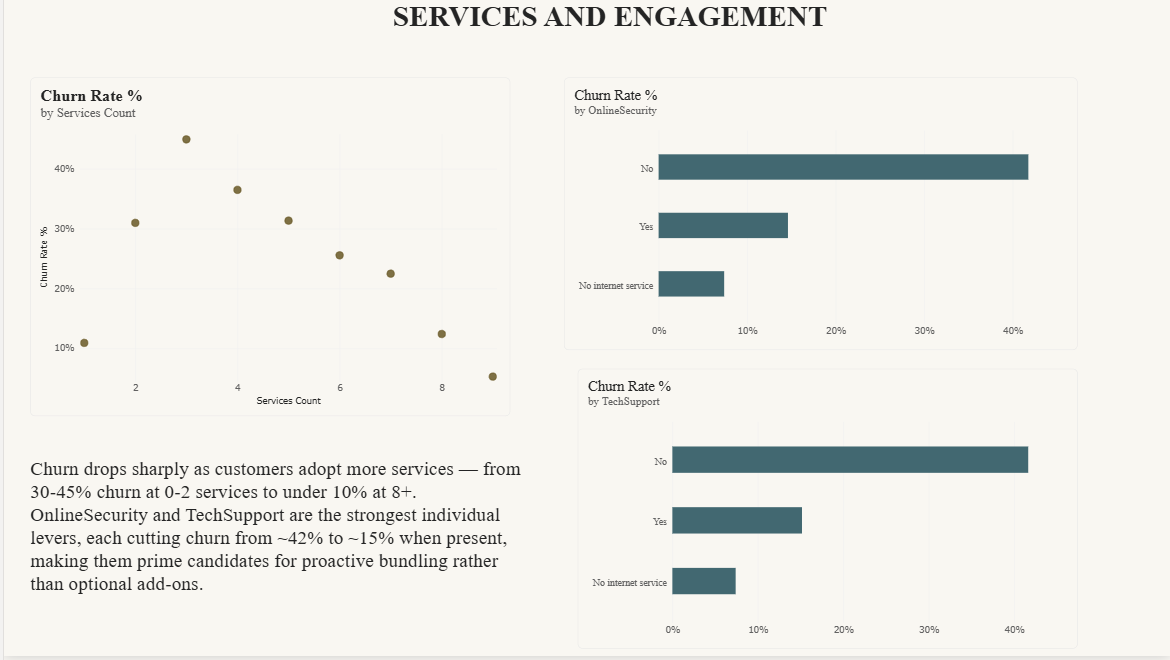

The page's visual inventory and layout, read from the dashboard file:
{"tool":"powerbi","page":{"name":"Services & Engagement","canvas":[1920,1080],"ordinal":3},"visuals":[{"type":"scatterChart","fields":{"X":["cleaned_telco_churn.Services Count"],"Y":["cleaned_telco_churn.Churn Rate %"]},"box":[43.2,127.6,790.4,557.8],"z":0},{"type":"textbox","box":[640.1,0,755.4,92.6],"z":1},{"type":"barChart","fields":{"Category":["cleaned_telco_churn.OnlineSecurity"],"Y":["cleaned_telco_churn.Churn Rate %"]},"box":[922.1,127.6,846,448.7],"z":2},{"type":"barChart","fields":{"Category":["cleaned_telco_churn.TechSupport"],"Y":["cleaned_telco_churn.Churn Rate %"]},"box":[944.8,607.2,823.3,461.1],"z":3},{"type":"textbox","box":[43.2,753.3,825.4,284],"z":4}]}

Visuals, with their boxes in screenshot pixels (x1, y1, x2, y2), scaled from the page's 1920x1080 canvas onto the 1170x660 screenshot:
scatterChart - cleaned_telco_churn.Services Count x cleaned_telco_churn.Churn Rate %: bbox=(26, 78, 508, 419)
textbox: bbox=(390, 0, 850, 57)
barChart - cleaned_telco_churn.OnlineSecurity x cleaned_telco_churn.Churn Rate %: bbox=(562, 78, 1077, 352)
barChart - cleaned_telco_churn.TechSupport x cleaned_telco_churn.Churn Rate %: bbox=(576, 371, 1077, 653)
textbox: bbox=(26, 460, 529, 634)
